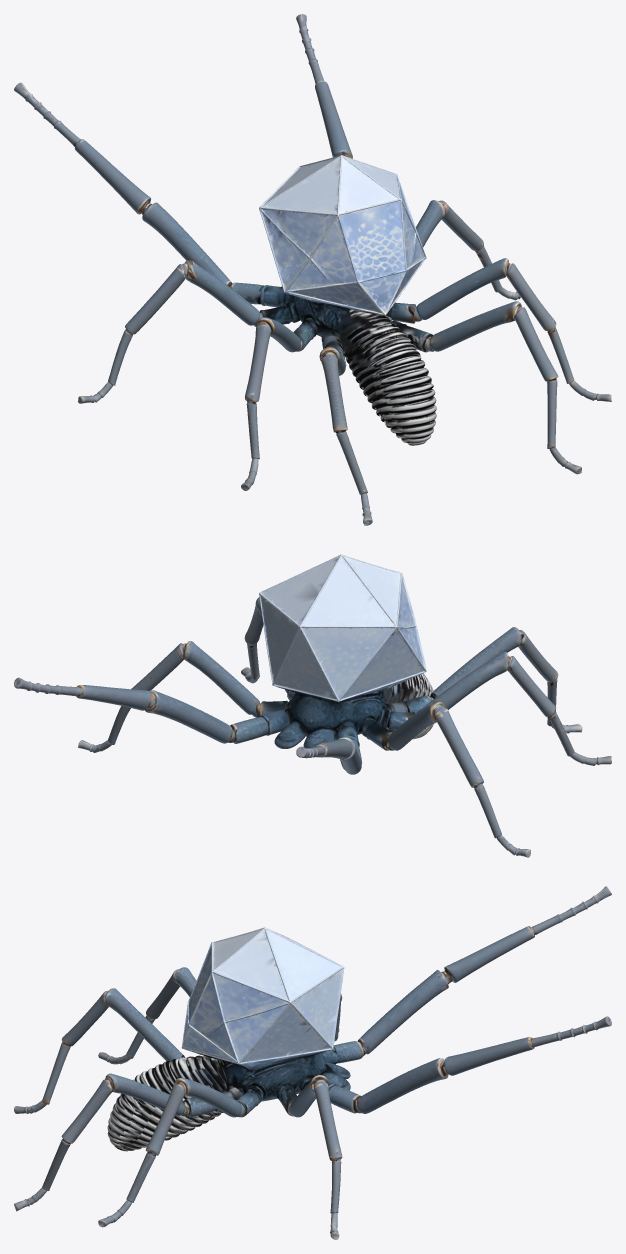
Rendered from bacteriophage.glb.
3 renders of one model, top to bottom at view 1: azimuth 30°, elevation 25°; view 2: azimuth 150°, elevation 25°; view 3: azimuth 270°, elevation 25°, orthographic. The views are drawn at different scales.
Parts seen in each view (by area): view 1: node_0; view 2: node_0; view 3: node_0.
Boxes of the visible parts, x1,y1,x2,y2 form: node_0: (14,14,611,525); node_0: (14,554,611,857); node_0: (14,886,611,1239).
Bounding box in the file's own units: 0.8432 × 0.4442 × 1.03.
1 material, 1 textured.
